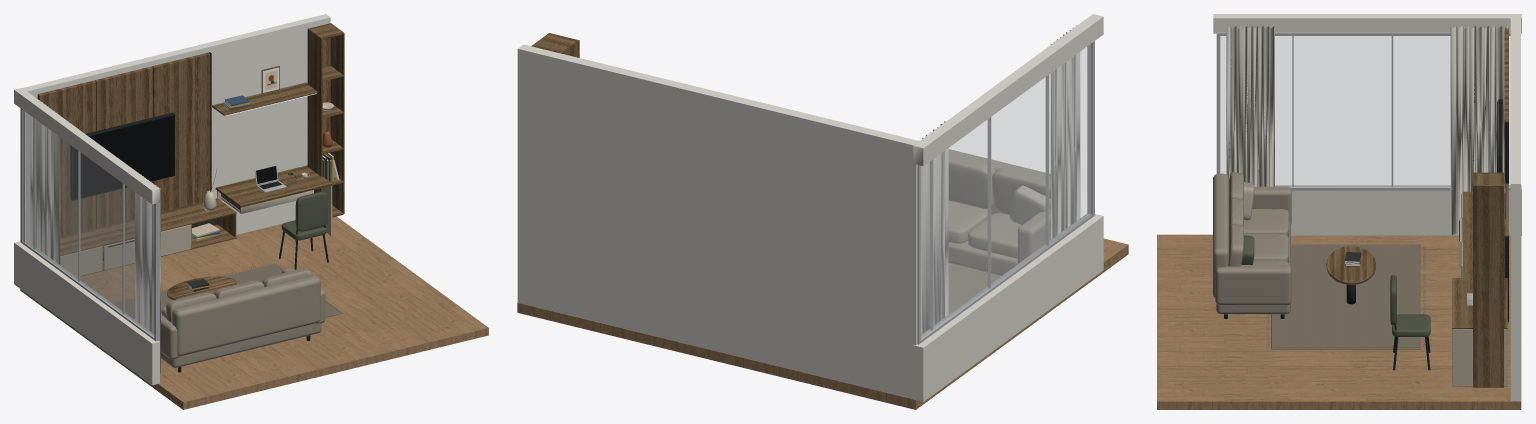
The model's file is sala.glb.
The picture shows the model from 3 angles, left to right: view 1: azimuth 30°, elevation 25°; view 2: azimuth 150°, elevation 25°; view 3: azimuth 270°, elevation 25°; orthographic projection. The views are drawn at different scales.
Visible parts, largest first — view 1: Piso, Painel de carvalho, Parede esquerda inferior, Janela • vidro, Sofá • almofada do assento, Cortina recolhida frente, TV • tela, Janela • montante, Rack • porta fixa, Almofada decorativa.001, Painel • sombra lateral, Franja tapete (+3 smaller); view 2: Parede esquerda inferior, Janela • vidro, Cortina recolhida frente, Sofá • almofada do assento, Janela • montante, Piso, Franja tapete, Almofada decorativa, Painel de carvalho; view 3: Piso, Janela • vidro, Parede esquerda inferior, Cortina recolhida frente, Franja tapete, Painel de carvalho, Sofá • almofada do assento, Janela • montante, Rack • porta fixa, Almofada decorativa.001, Painel • sombra lateral, Almofada decorativa.
Part boxes in pixels (x1,y1,x2,y2): Piso: (20, 216, 488, 409); Painel de carvalho: (37, 23, 344, 299); Parede esquerda inferior: (14, 14, 330, 385); Janela • vidro: (25, 112, 153, 336); Sofá • almofada do assento: (161, 267, 325, 367); Cortina recolhida frente: (30, 97, 160, 373); TV • tela: (73, 115, 277, 199); Janela • montante: (20, 108, 286, 341); Rack • porta fixa: (60, 185, 332, 276); Almofada decorativa.001: (281, 191, 327, 240); Painel • sombra lateral: (70, 52, 328, 372); Franja tapete: (111, 263, 342, 319); Parede esquerda inferior: (517, 14, 1103, 401); Janela • vidro: (922, 44, 1091, 337); Cortina recolhida frente: (919, 25, 1080, 333); Sofá • almofada do assento: (948, 149, 1050, 275); Janela • montante: (917, 41, 1094, 344); Piso: (517, 238, 1128, 409); Franja tapete: (948, 264, 999, 313); Almofada decorativa: (1009, 185, 1050, 224); Painel de carvalho: (531, 33, 579, 57); Piso: (1157, 234, 1521, 409); Janela • vidro: (1220, 36, 1510, 185); Parede esquerda inferior: (1213, 14, 1521, 401); Cortina recolhida frente: (1226, 26, 1508, 235); Franja tapete: (1266, 244, 1425, 349); Painel de carvalho: (1326, 28, 1508, 387); Sofá • almofada do assento: (1213, 172, 1291, 314); Janela • montante: (1216, 32, 1510, 305); Rack • porta fixa: (1452, 193, 1507, 386); Almofada decorativa.001: (1241, 235, 1430, 336); Painel • sombra lateral: (1224, 99, 1508, 370); Almofada decorativa: (1243, 182, 1254, 220).
Bounding box in the file's own units: 4.69 × 2.91 × 4.26.
Materials: 27 (8 with a texture image).
